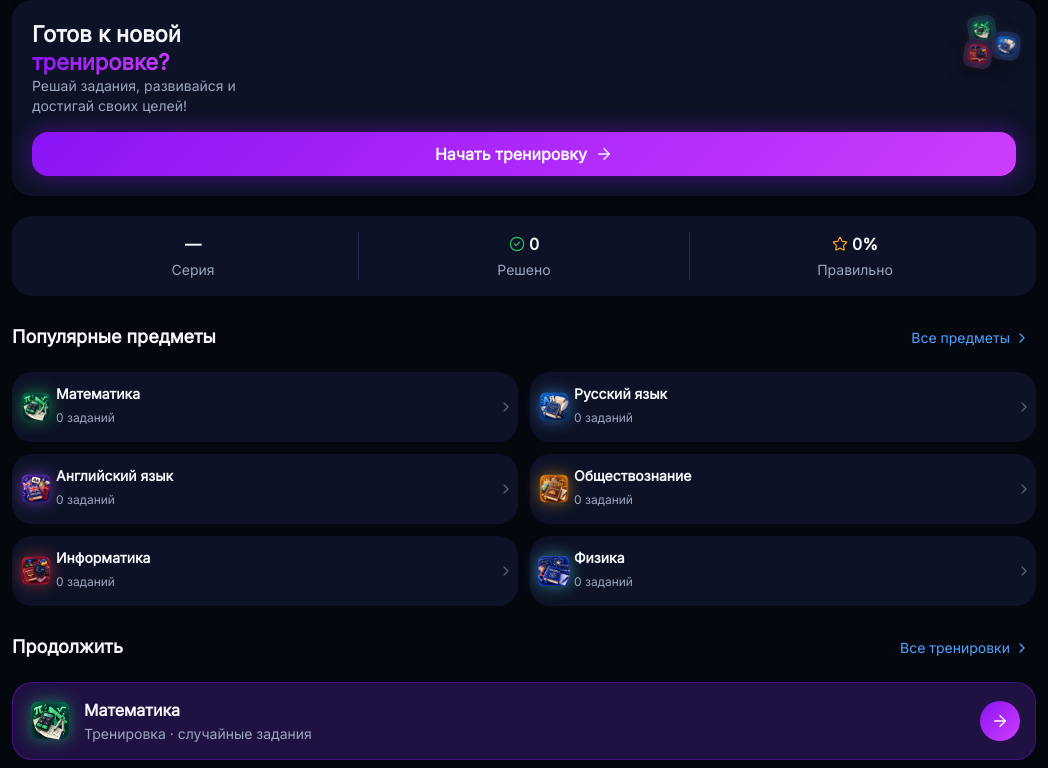
HomeMobile › navigates to the subject catalog when the hero CTA is tapped, not a WIP training tab
Click the button "Начать тренировку" at (524, 154), box [32,132,1016,176]
(page scrolled)
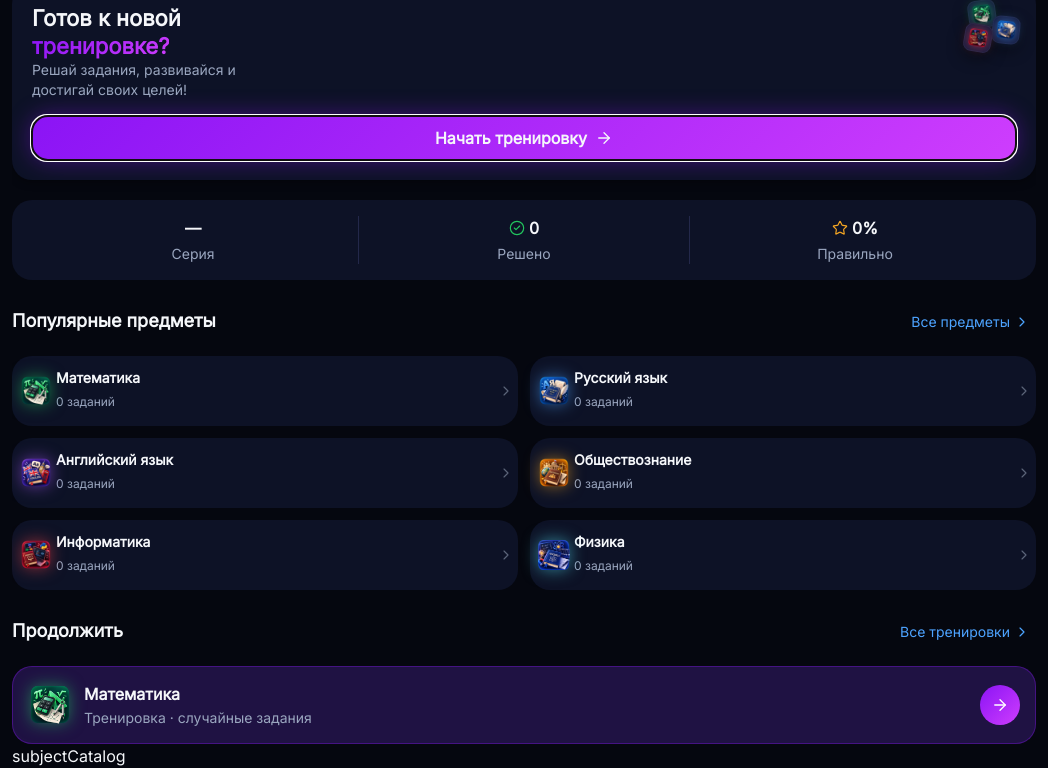
Check: the text with test id "overlay" reads "subjectCatalog", box [12,746,126,766]
